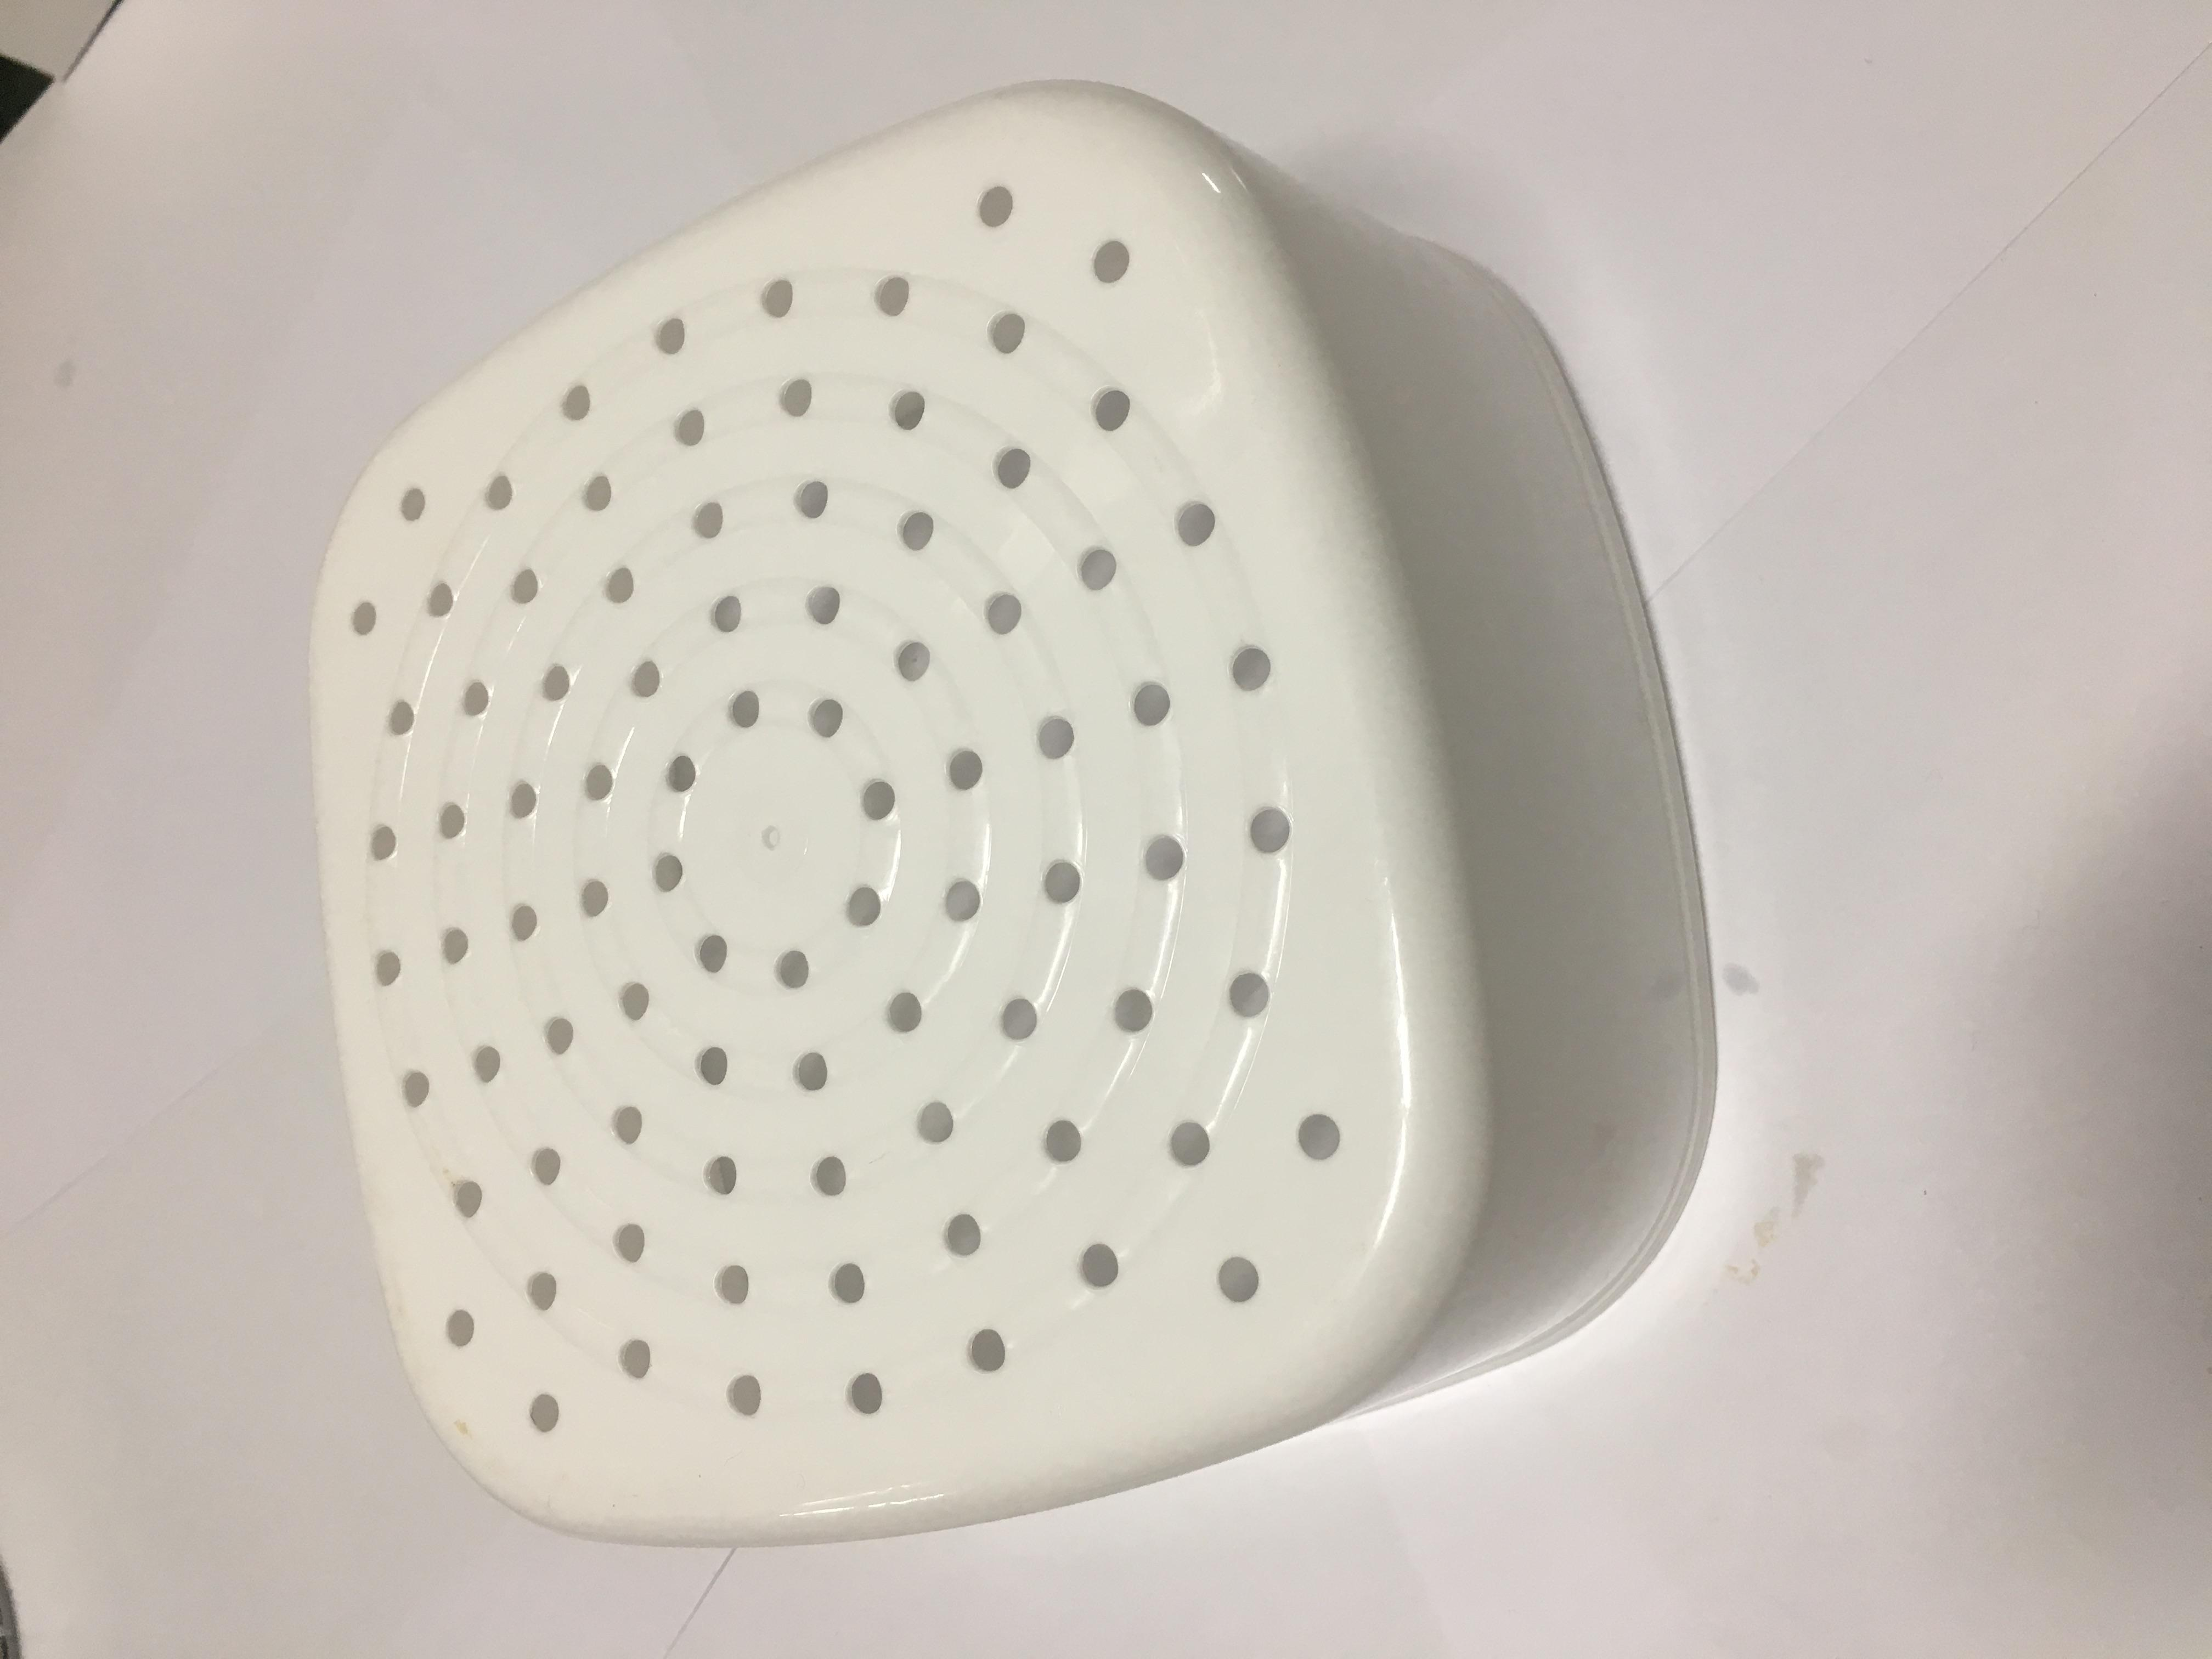bottle: (31, 89, 2181, 1253)
